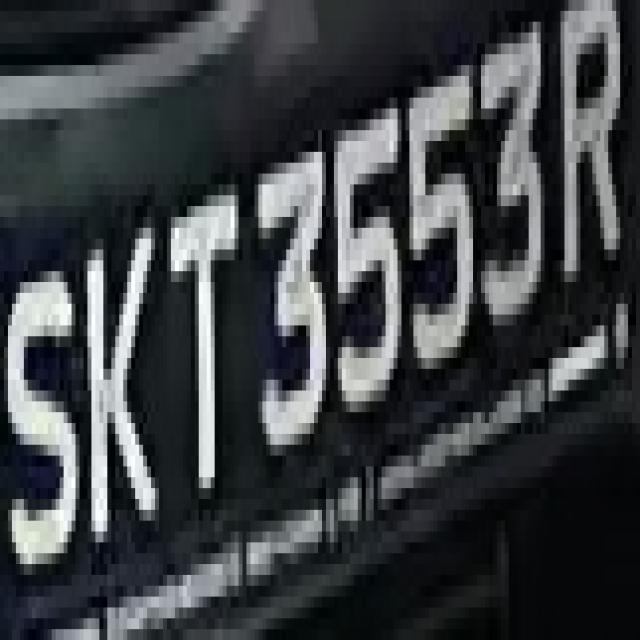3: (246, 130, 334, 477), (465, 33, 557, 336)
5: (394, 76, 477, 412), (330, 98, 405, 434)
K: (83, 217, 163, 564)
R: (561, 11, 632, 293)
S: (8, 250, 79, 618)
T: (155, 163, 246, 488)
